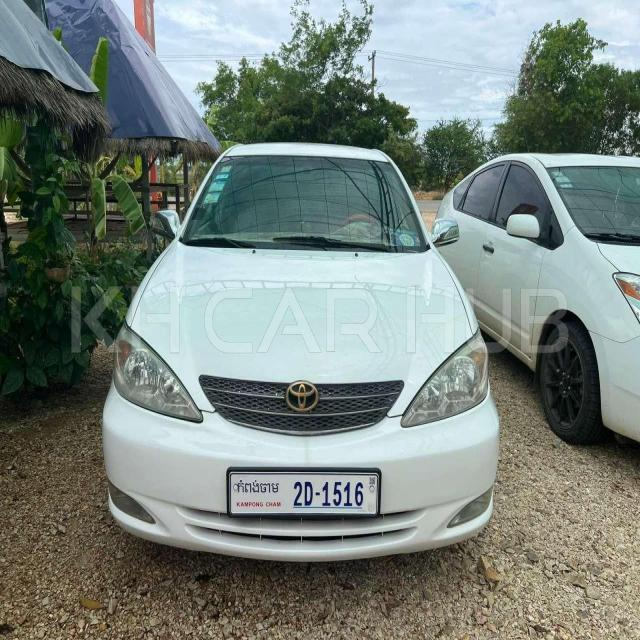Kampong_Cham: (238, 480, 280, 494)
